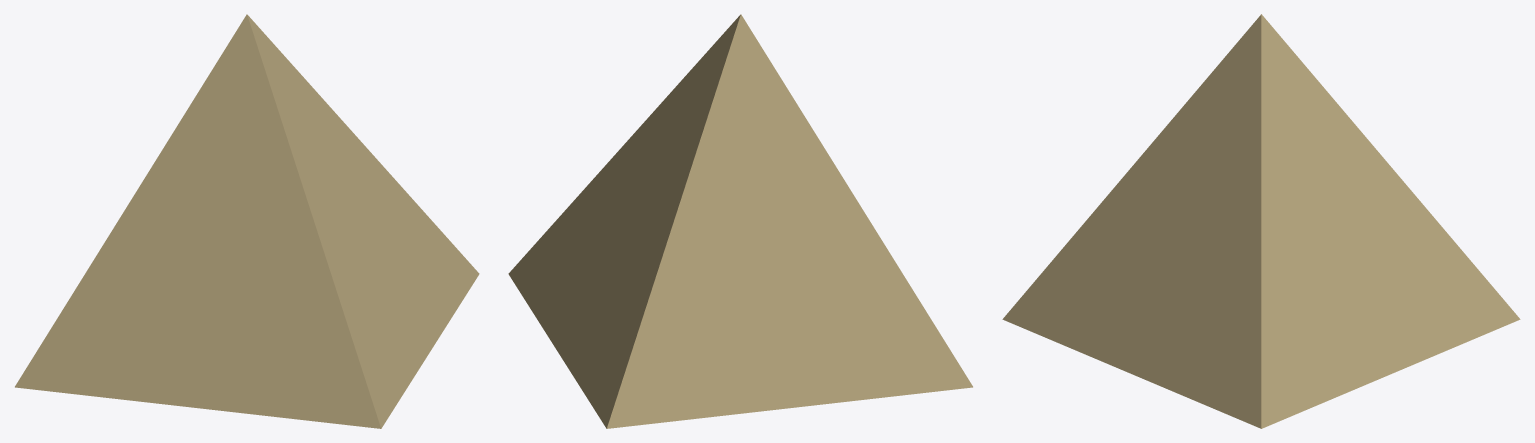
The picture shows the model from 3 angles, left to right: view 1: azimuth 30°, elevation 25°; view 2: azimuth 150°, elevation 25°; view 3: azimuth 270°, elevation 25°; orthographic projection. The views are drawn at different scales.
Parts seen in each view (by area): view 1: Cone.003; view 2: Cone.003; view 3: Cone.003.
Part boxes in pixels (x1,y1,x2,y2): Cone.003: (15, 14, 479, 428); Cone.003: (508, 14, 972, 428); Cone.003: (1002, 14, 1520, 428).
Size of the model in its own units: 6 by 3.9 by 6.
